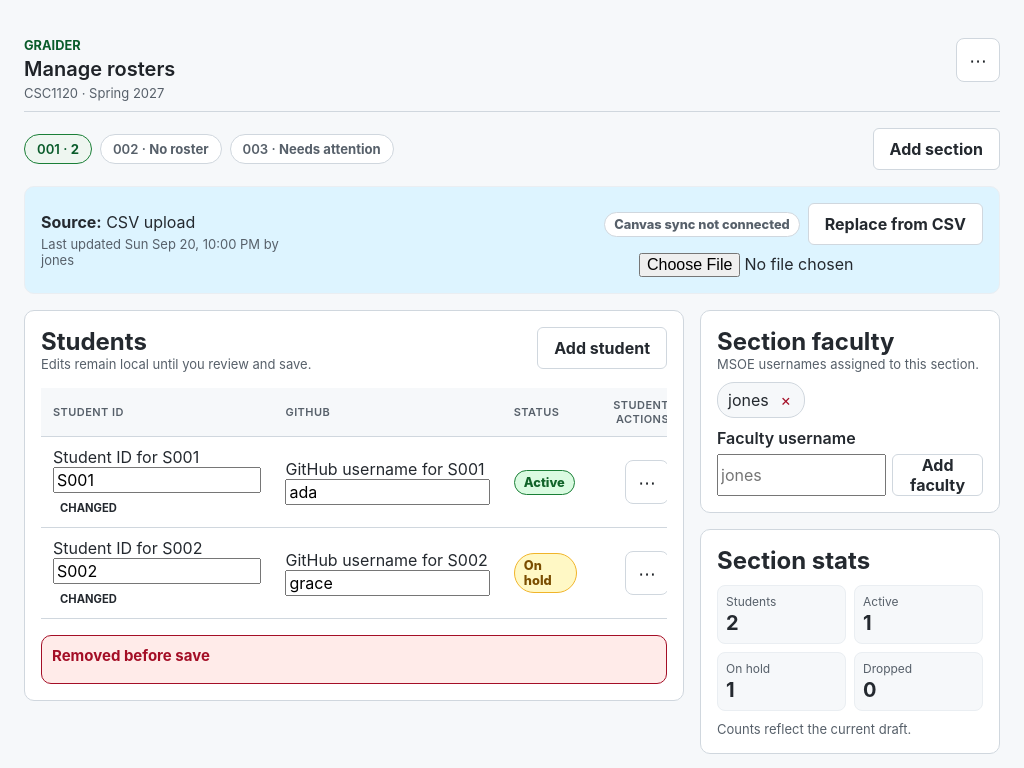
Test: RosterManagerPage › keeps invalid neighboring sections selectable and shows their diagnostics
The image size is (1024, 768).
Expected: the field showing "ada" is shown, [286,479,490,505]
Click the tab with aria-label "Section 003, Needs attention".
click(312, 149)  # box [230,134,394,164]
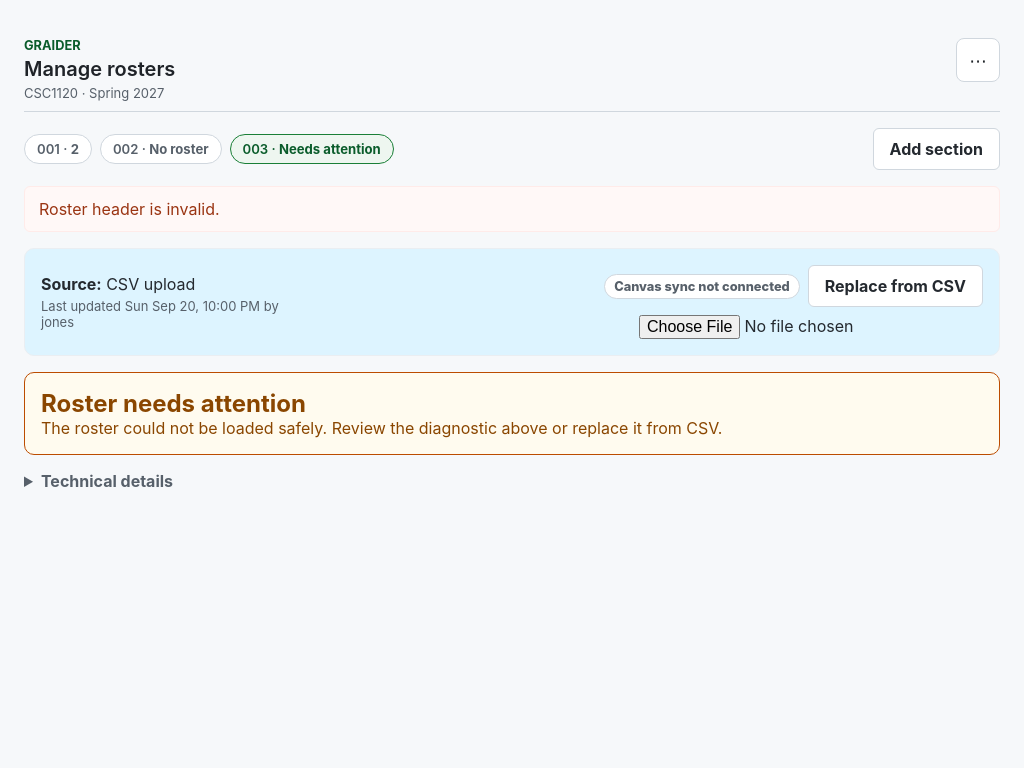
Expected: the tab named "Section 001, 2" is shown, [24,134,92,164]
Expected: the heading "Roster needs attention" is shown, [41,389,306,418]
